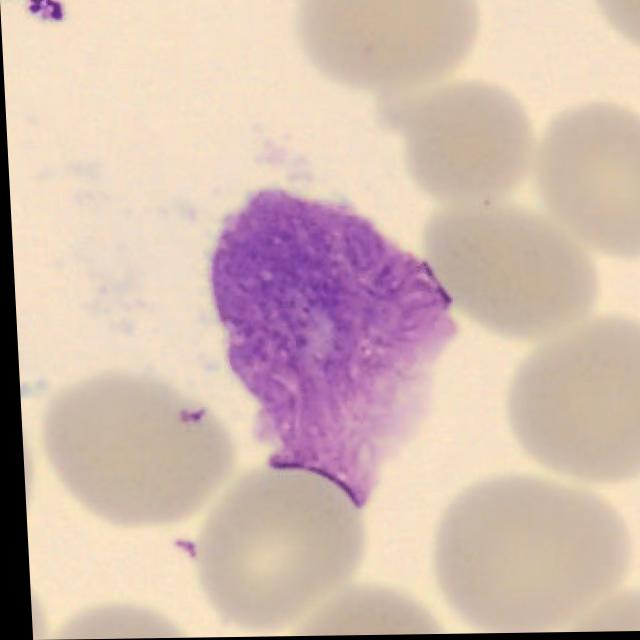Restos celulares: (208, 190, 444, 508)
